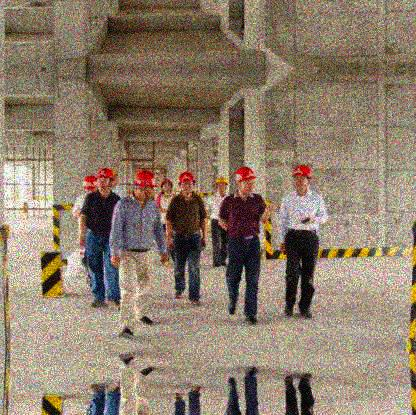helmet: (233, 167, 258, 199), (132, 170, 156, 200), (290, 166, 311, 192), (179, 171, 196, 197), (95, 167, 113, 191), (214, 176, 227, 196), (160, 178, 173, 193), (83, 177, 94, 194)
